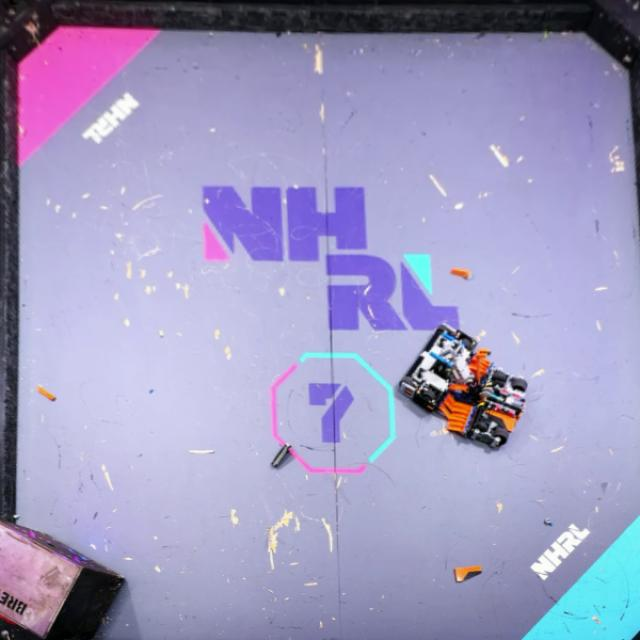housebot: (0, 520, 128, 640)
robot: (398, 322, 492, 420), (446, 364, 530, 449)
